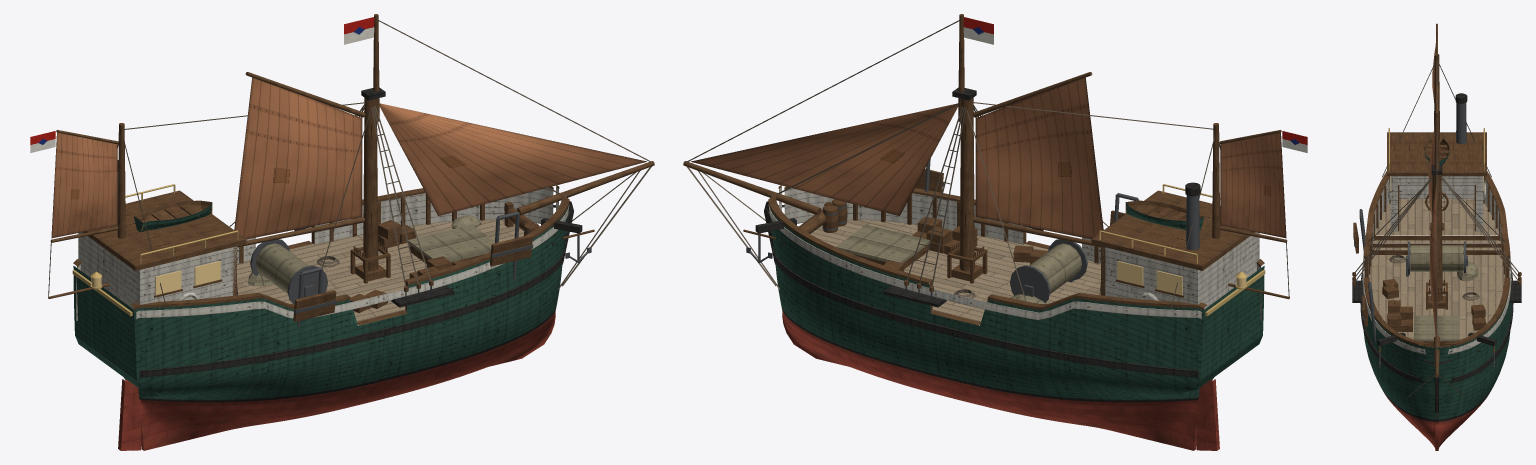
The model's file is trawler_v2.glb.
3 renders of one model, left to right at view 1: azimuth 30°, elevation 25°; view 2: azimuth 150°, elevation 25°; view 3: azimuth 270°, elevation 25°, orthographic. The views are drawn at different scales.
Visible parts, largest first — view 1: SM_Trawler; view 2: SM_Trawler; view 3: SM_Trawler.
Part boxes in pixels (x1,y1,x2,y2): SM_Trawler: [30, 14, 654, 450]; SM_Trawler: [683, 14, 1307, 450]; SM_Trawler: [1352, 23, 1521, 450].
Bounding box in the file's own units: 22.74 × 12.85 × 6.95.
Materials: 13 (9 with a texture image).
